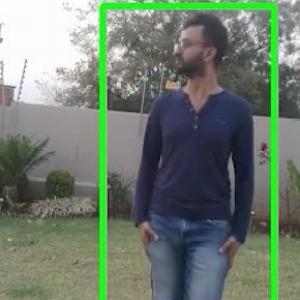follow: (83, 0, 241, 299), (141, 3, 251, 299)
